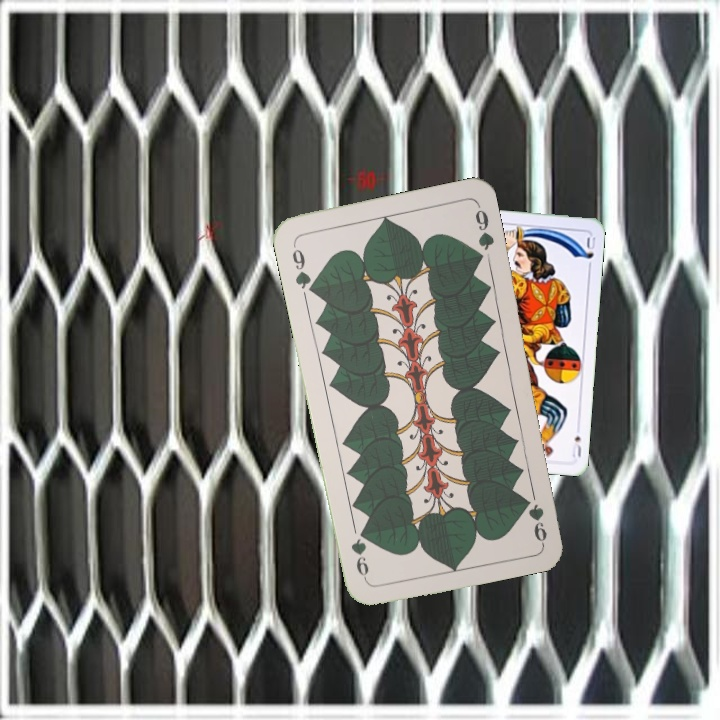G9: (288, 240, 318, 297), (526, 500, 550, 545)
SU: (570, 432, 584, 460)
